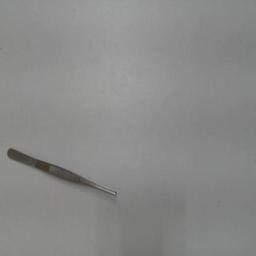Gillies Toothed Dissector: (6, 144, 118, 200)
